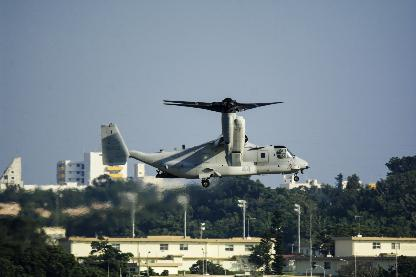Tornado: (98, 97, 310, 186)
